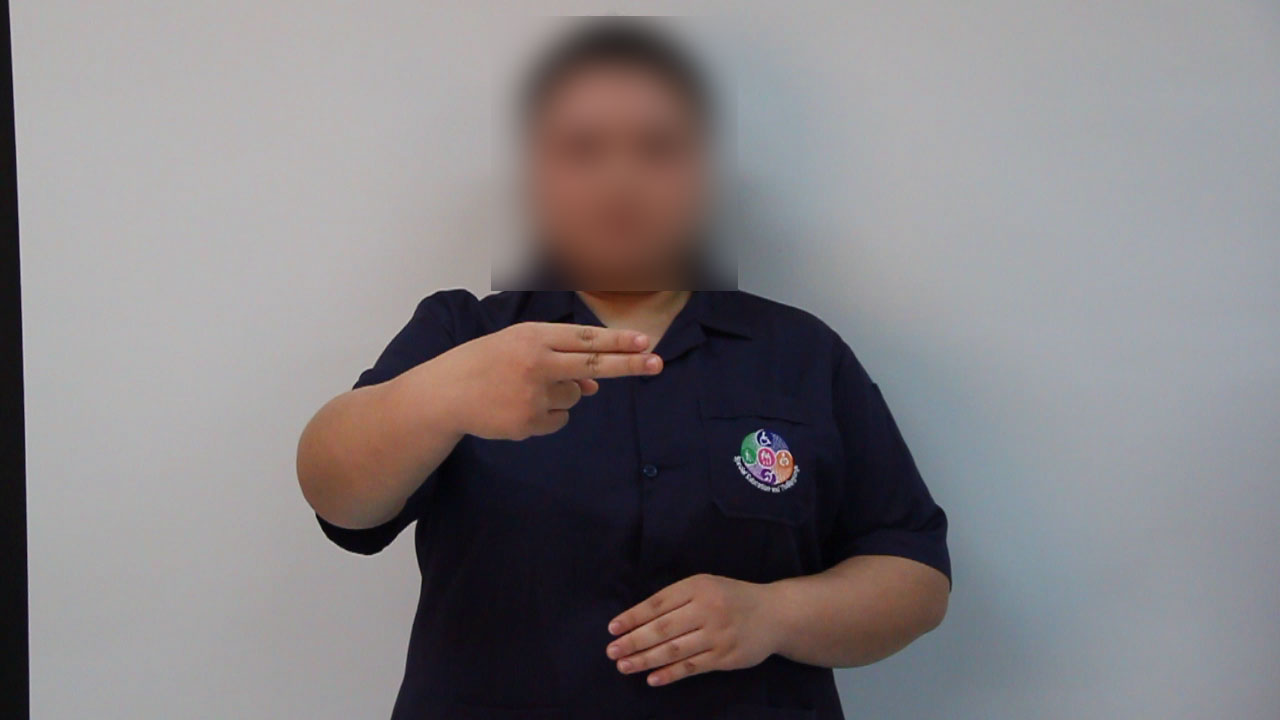hor: (437, 313, 673, 462)
